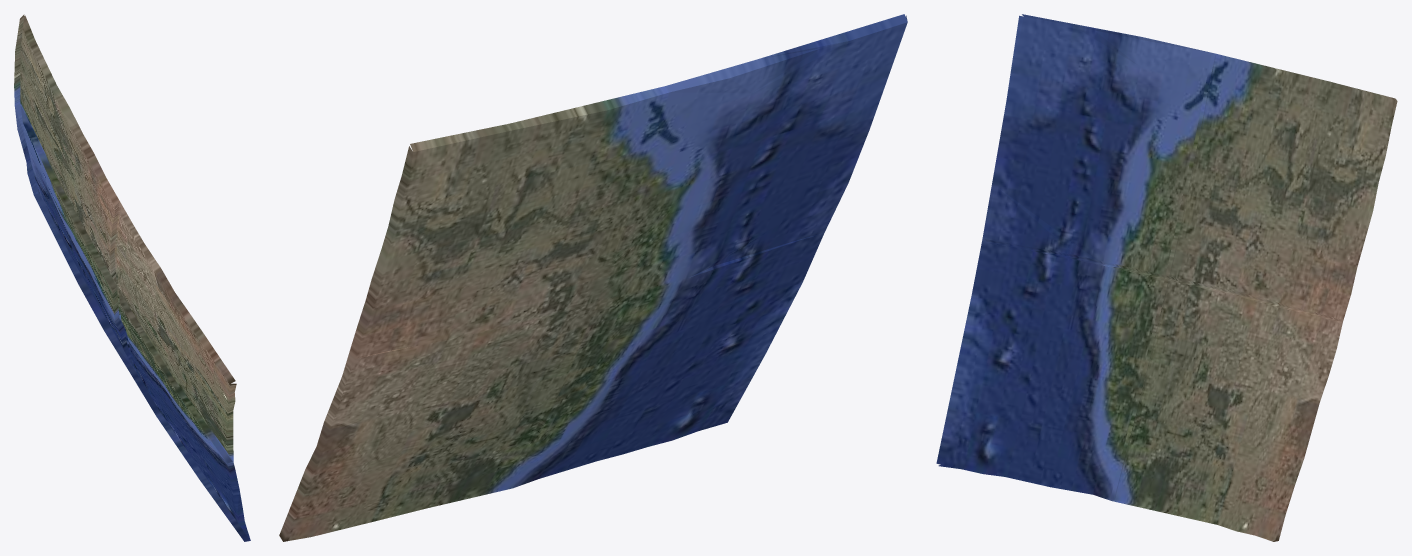
3 renders of one model, left to right at view 1: azimuth 30°, elevation 25°; view 2: azimuth 150°, elevation 25°; view 3: azimuth 270°, elevation 25°, orthographic. The views are drawn at different scales.
Size of the model in its own units: 1048535 by 1119019 by 1263860.
Materials: 1 (1 with a texture image).
